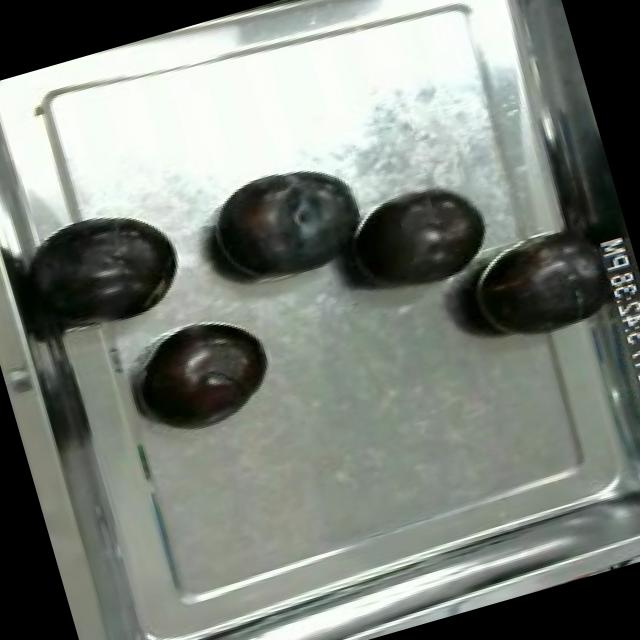Fruit: (192, 147, 382, 304), (16, 188, 194, 344), (329, 167, 505, 313), (130, 305, 286, 441)
